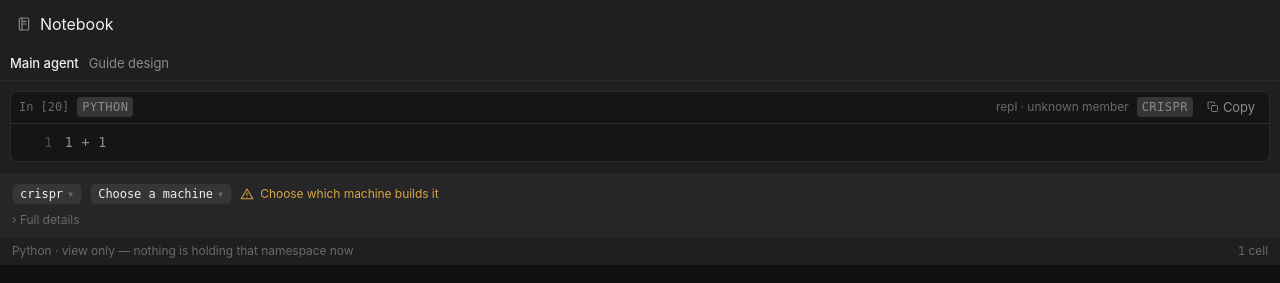
Test case: still offers to build when listMachines fails, and names the machine by its raw id
Click the button with aria-label "Machine:" at (161, 194), box [90, 183, 232, 205]
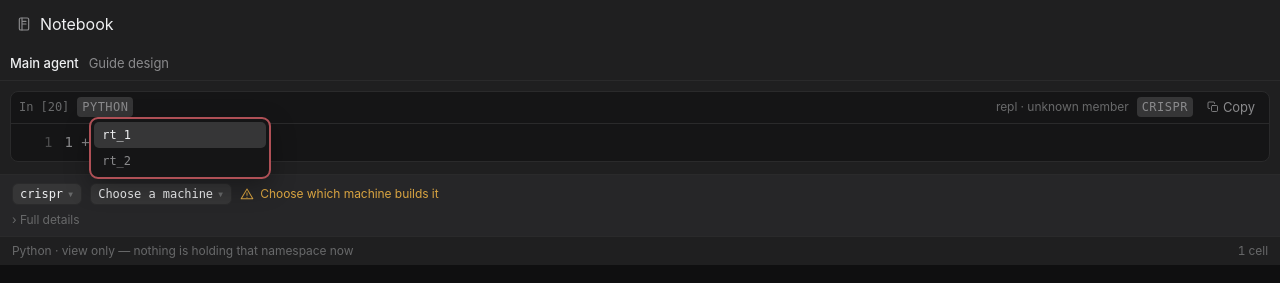
Expected: the option "rt_1" is shown
Expected: the option "rt_2" is shown, [102, 154, 131, 168]
Click the option "rt_1" at (180, 135), box [94, 122, 266, 148]
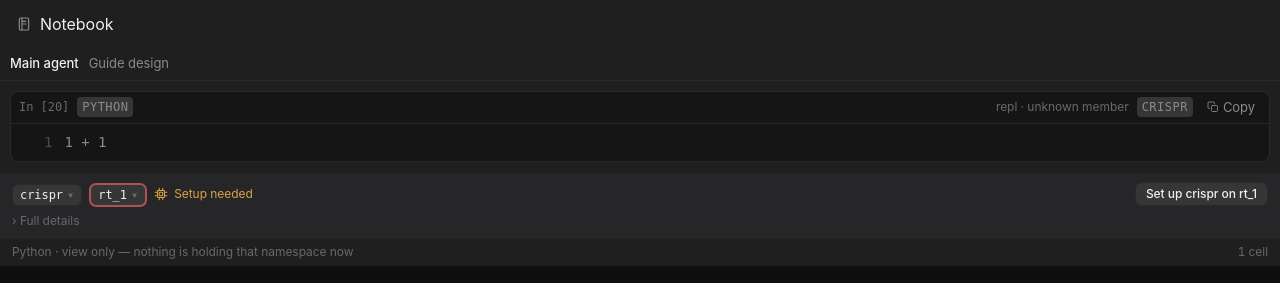
Expected: the button "Set up crispr on rt_1" is shown, [1135, 182, 1268, 206]
